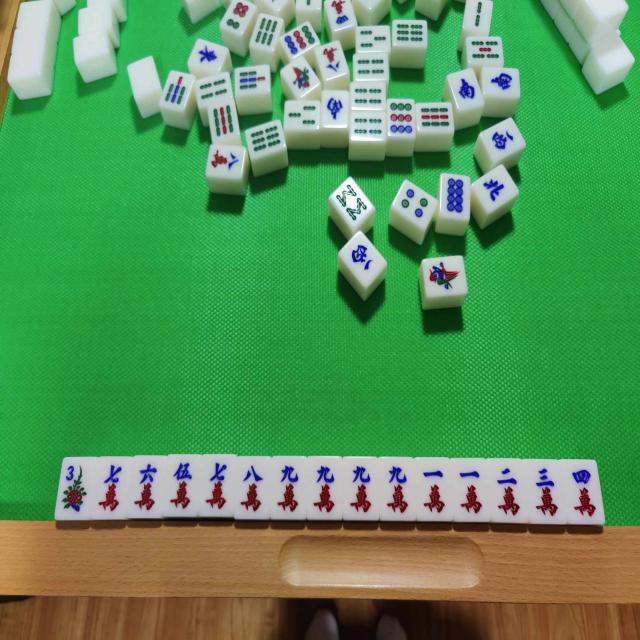bf3: (62, 458, 92, 518)
sc1: (416, 456, 452, 520), (453, 458, 489, 520)
sc2: (490, 458, 527, 522)
sc3: (528, 461, 566, 524)
sc4: (566, 458, 604, 524)
sc5: (168, 455, 199, 515)
sc6: (132, 456, 166, 516)
sc7: (96, 458, 130, 517), (201, 456, 234, 514)
sc8: (236, 457, 268, 518)
sc9: (380, 456, 416, 520), (343, 456, 379, 520), (307, 456, 342, 520), (272, 458, 305, 518)
